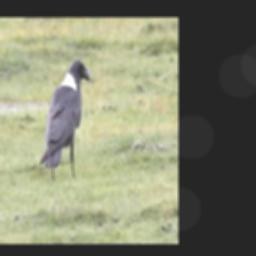Crow: (39, 58, 89, 178)
